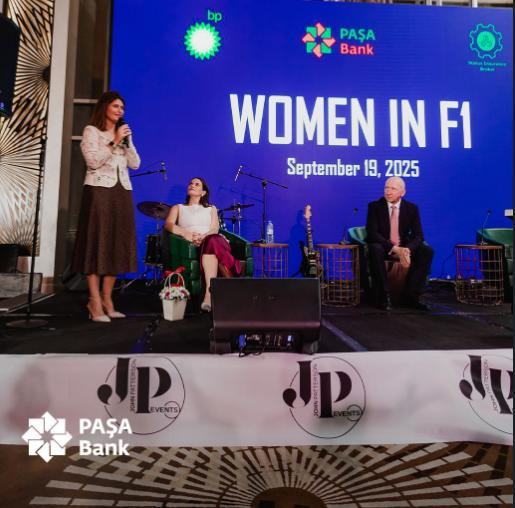Pasha Bank: (20, 408, 76, 464), (300, 20, 336, 58)
